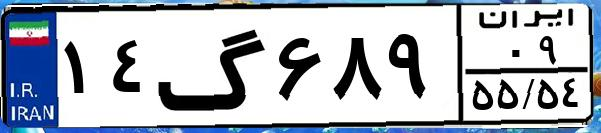0: (508, 27, 537, 80)
1: (57, 26, 110, 100)
4: (110, 28, 156, 98), (560, 70, 590, 125)
5: (470, 70, 495, 125), (495, 70, 520, 125), (535, 70, 560, 125)
6: (270, 28, 330, 110)
8: (330, 28, 385, 110)
9: (385, 28, 445, 110), (537, 27, 568, 80)
گ: (156, 12, 270, 120)
